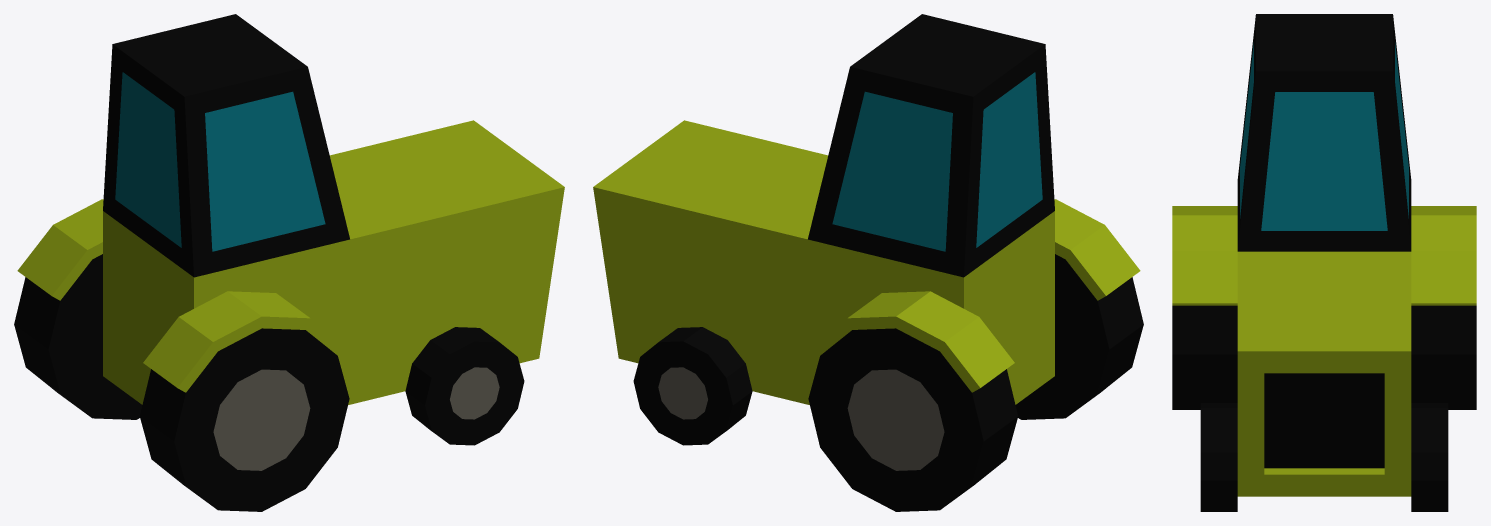
File: FarmTracktorGreen.fbx
The picture shows the model from 3 angles, left to right: view 1: azimuth 30°, elevation 25°; view 2: azimuth 150°, elevation 25°; view 3: azimuth 270°, elevation 25°; orthographic projection. The views are drawn at different scales.
Visible parts, largest first — view 1: FarmTracktorGreen; view 2: FarmTracktorGreen; view 3: FarmTracktorGreen.
Part boxes in pixels (x1=…): FarmTracktorGreen: x1=14, y1=14, x2=564, y2=511; FarmTracktorGreen: x1=593, y1=14, x2=1143, y2=511; FarmTracktorGreen: x1=1172, y1=14, x2=1476, y2=511.
Size of the model in its own units: 0.447 by 0.3928 by 0.2916.
